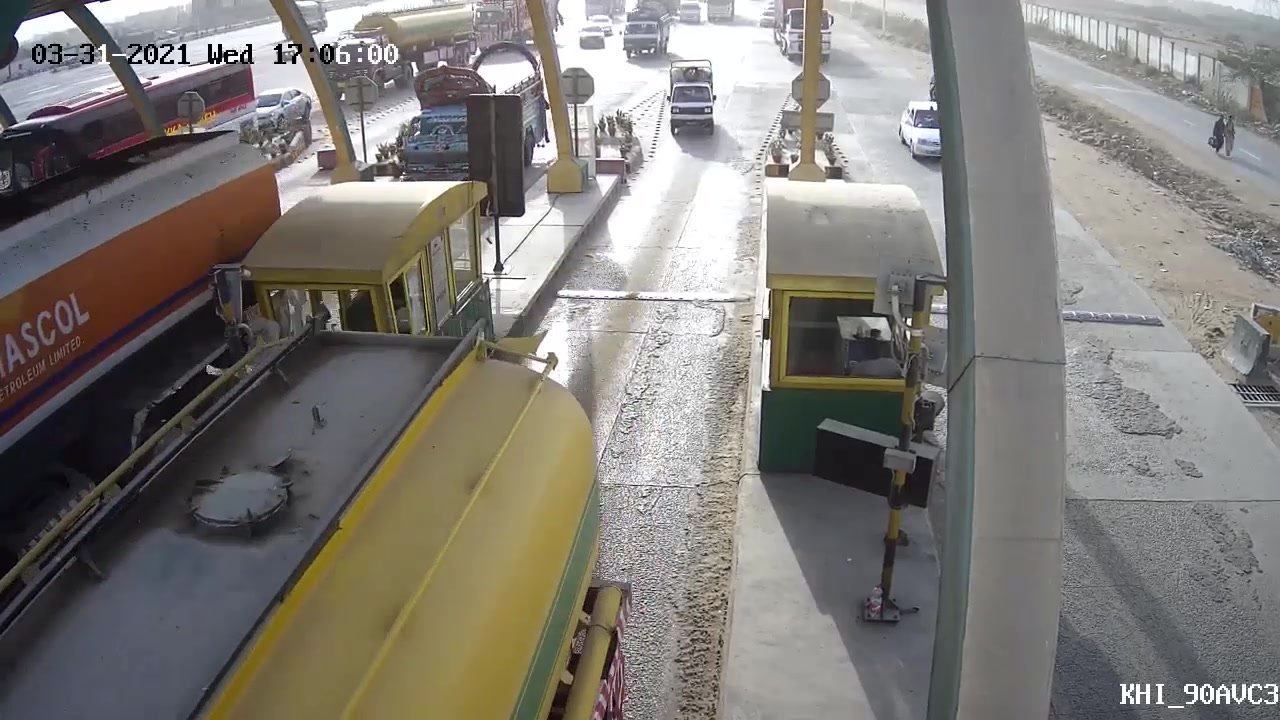F1: (659, 56, 730, 162)
